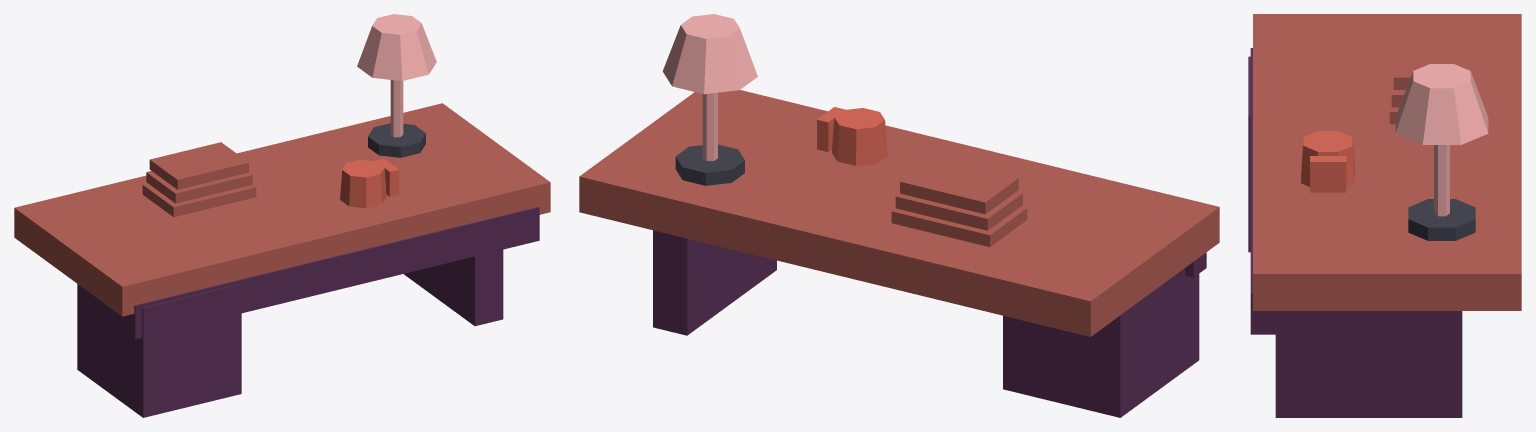
Rendered from desk-toy.obj.
3 renders of one model, left to right at view 1: azimuth 30°, elevation 25°; view 2: azimuth 150°, elevation 25°; view 3: azimuth 270°, elevation 25°, orthographic. The views are drawn at different scales.
Parts seen in each view (by area): view 1: soft-chunky-desktop, left-storage-block, warm-front-apron, right-trestle-panel, faceted-lamp-shade, cozy-book-3, round-mug-body, cozy-book-1, cozy-book-2, soft-lamp-base, warm-lamp-neck, chunky-mug-handle; view 2: soft-chunky-desktop, left-storage-block, right-trestle-panel, faceted-lamp-shade, cozy-book-3, round-mug-body, cozy-book-1, soft-lamp-base, cozy-book-2, warm-lamp-neck, chunky-mug-handle; view 3: soft-chunky-desktop, right-trestle-panel, faceted-lamp-shade, cozy-book-3, soft-lamp-base, round-mug-body, warm-front-apron, chunky-mug-handle, warm-lamp-neck, left-storage-block, cozy-book-2, cozy-book-1.
Boxes of the visible parts, x1=… form: soft-chunky-desktop: x1=14, y1=103, x2=550, y2=316; left-storage-block: x1=77, y1=284, x2=241, y2=417; warm-front-apron: x1=124, y1=207, x2=539, y2=339; right-trestle-panel: x1=404, y1=249, x2=503, y2=326; faceted-lamp-shade: x1=357, y1=14, x2=436, y2=80; cozy-book-3: x1=149, y1=142, x2=248, y2=189; round-mug-body: x1=340, y1=159, x2=386, y2=208; cozy-book-1: x1=142, y1=183, x2=256, y2=217; cozy-book-2: x1=146, y1=171, x2=252, y2=203; soft-lamp-base: x1=368, y1=123, x2=425, y2=157; warm-lamp-neck: x1=390, y1=80, x2=403, y2=137; chunky-mug-handle: x1=375, y1=159, x2=399, y2=196; soft-chunky-desktop: x1=579, y1=90, x2=1219, y2=336; left-storage-block: x1=1003, y1=268, x2=1199, y2=417; right-trestle-panel: x1=653, y1=230, x2=776, y2=335; faceted-lamp-shade: x1=662, y1=14, x2=757, y2=94; cozy-book-3: x1=900, y1=157, x2=1018, y2=214; round-mug-body: x1=832, y1=108, x2=887, y2=165; cozy-book-1: x1=891, y1=206, x2=1027, y2=246; soft-lamp-base: x1=675, y1=144, x2=744, y2=185; cozy-book-2: x1=895, y1=191, x2=1022, y2=230; warm-lamp-neck: x1=702, y1=92, x2=717, y2=160; chunky-mug-handle: x1=817, y1=107, x2=845, y2=151; soft-chunky-desktop: x1=1253, y1=14, x2=1521, y2=310; right-trestle-panel: x1=1275, y1=311, x2=1462, y2=417; faceted-lamp-shade: x1=1395, y1=64, x2=1488, y2=144; cozy-book-3: x1=1393, y1=34, x2=1462, y2=89; soft-lamp-base: x1=1408, y1=199, x2=1475, y2=240; round-mug-body: x1=1301, y1=131, x2=1354, y2=186; warm-front-apron: x1=1250, y1=48, x2=1277, y2=334; chunky-mug-handle: x1=1310, y1=156, x2=1346, y2=192; warm-lamp-neck: x1=1434, y1=145, x2=1449, y2=216; left-storage-block: x1=1248, y1=56, x2=1250, y2=252; cozy-book-2: x1=1391, y1=48, x2=1464, y2=107; cozy-book-1: x1=1389, y1=62, x2=1466, y2=124.
Bounding box in the file's own units: 2.7 × 1.54 × 1.2.
